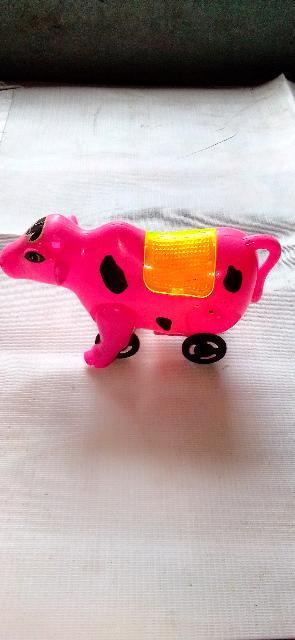hardplastic: (17, 202, 275, 373)
